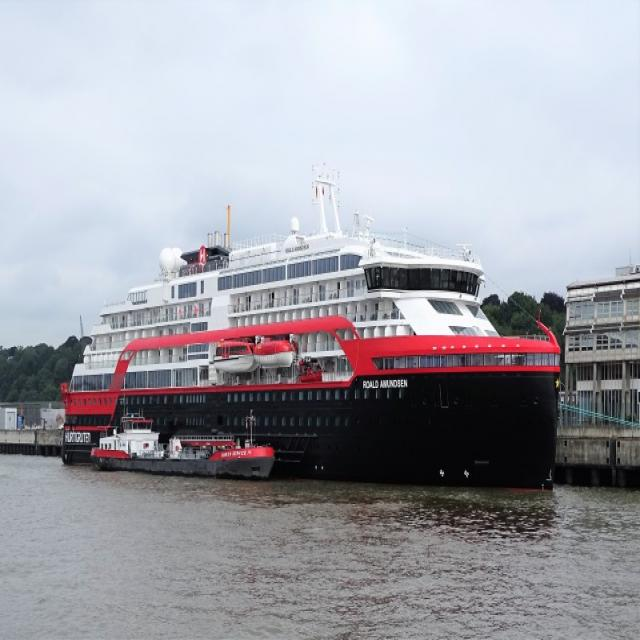cruises: (59, 156, 564, 503)
